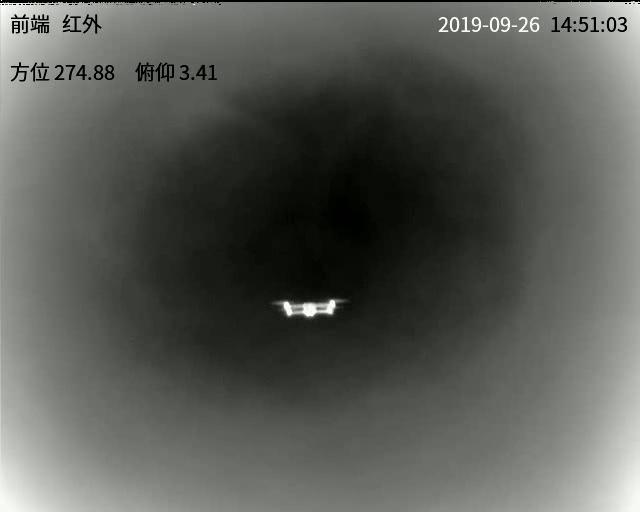DRONE: (277, 300, 342, 318)
